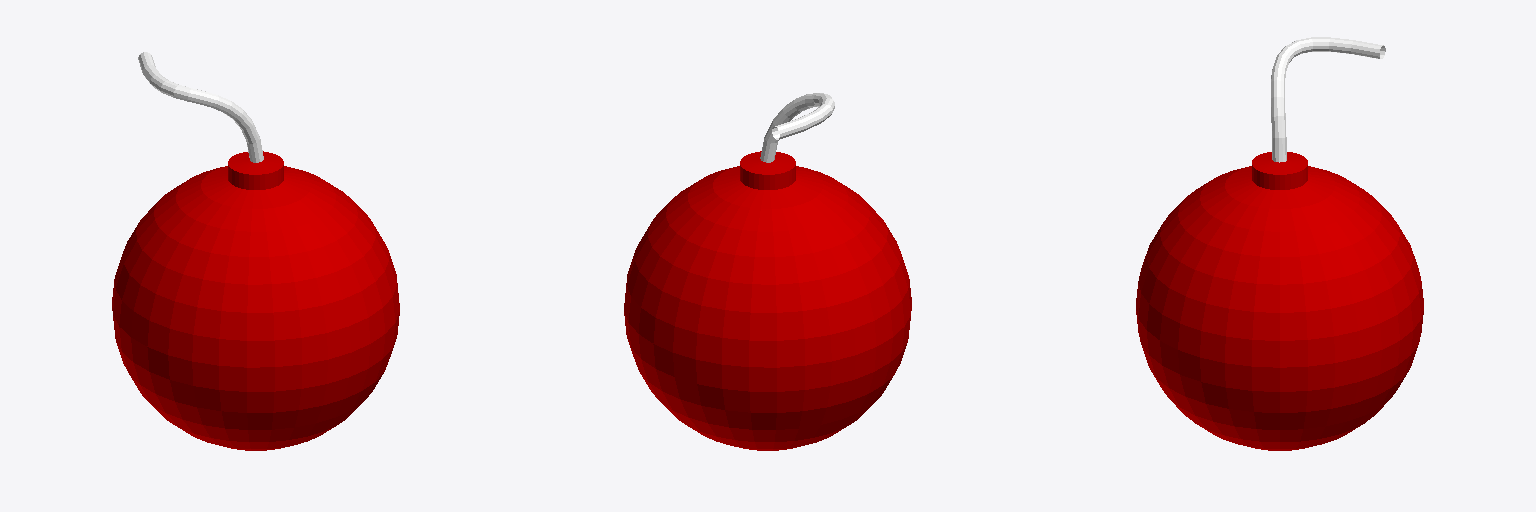
3 views of the same model, side by side, from view 1: azimuth 30°, elevation 25°; view 2: azimuth 150°, elevation 25°; view 3: azimuth 270°, elevation 25° (orthographic).
Visible parts, largest first — view 1: 球, ベジエカーブ; view 2: 球, ベジエカーブ; view 3: 球, ベジエカーブ.
Part boxes in pixels (x1,y1,x2,y2): 球: (112,151,399,450); ベジエカーブ: (138,52,263,162); 球: (624,151,911,450); ベジエカーブ: (760,93,834,162); 球: (1136,152,1423,450); ベジエカーブ: (1271,37,1385,162).
Bounding box in the file's own units: 2 × 2.78 × 2.
Materials: 2 (2 with a texture image).